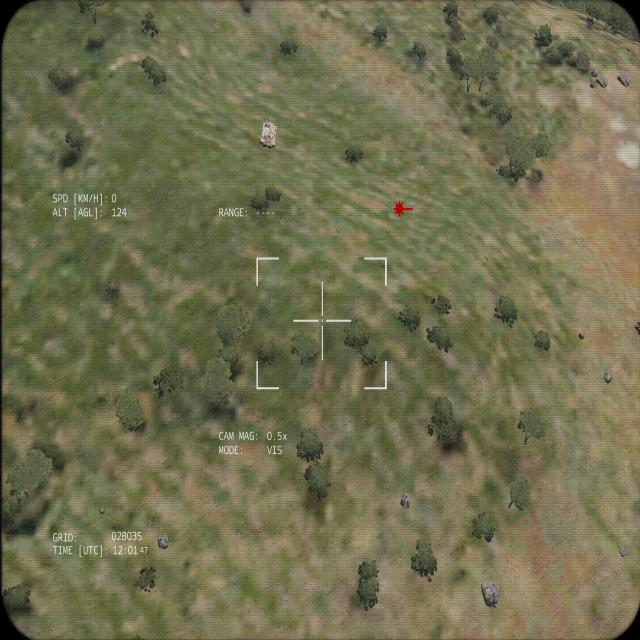tank: (257, 118, 277, 150)
